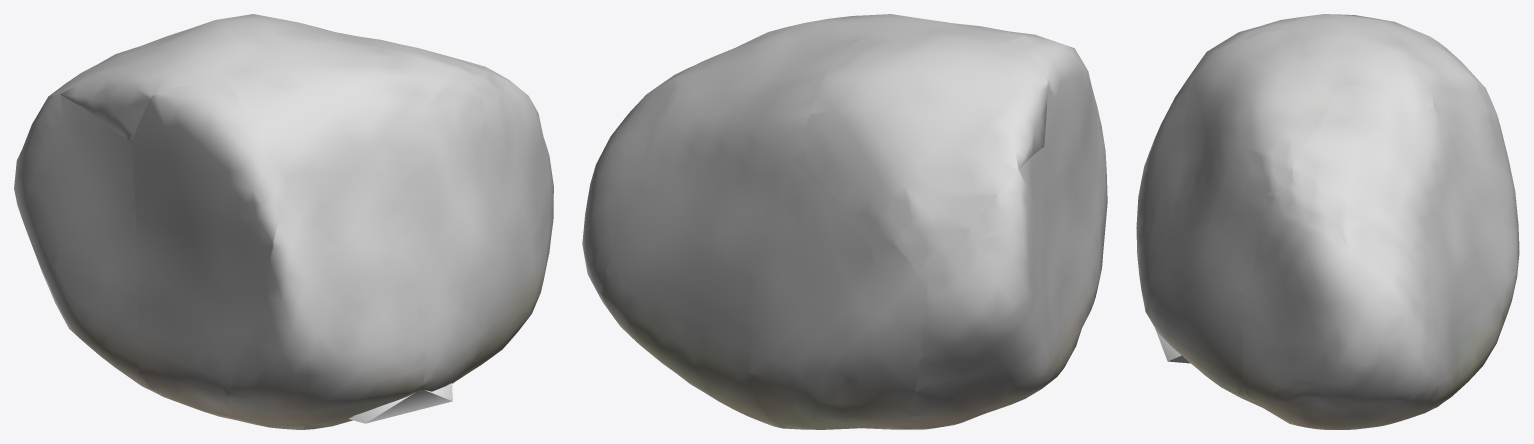
The model's file is gold_rock_v5.glb.
3 renders of one model, left to right at view 1: azimuth 30°, elevation 25°; view 2: azimuth 150°, elevation 25°; view 3: azimuth 270°, elevation 25°, orthographic. The views are drawn at different scales.
Parts seen in each view (by area): view 1: Chunk_09, Chunk_04, Chunk_05, Chunk_03, Chunk_06, Chunk_08, Chunk_00, Rubble_3, Chunk_07; view 2: Chunk_08, Chunk_02, Chunk_03, Chunk_07, Chunk_01, Chunk_04, Chunk_00, Chunk_09, Chunk_05; view 3: Chunk_00, Chunk_09, Chunk_07, Chunk_06, Chunk_08, Chunk_01, Chunk_02, Chunk_05, Chunk_04.
Boxes of the visible parts, <box> form: Chunk_09: <box>228,36,485,292</box>; Chunk_04: <box>131,83,287,415</box>; Chunk_05: <box>229,187,425,429</box>; Chunk_03: <box>14,94,157,393</box>; Chunk_06: <box>415,122,530,391</box>; Chunk_08: <box>50,14,314,141</box>; Chunk_00: <box>467,61,553,317</box>; Rubble_3: <box>349,383,452,423</box>; Chunk_07: <box>275,18,469,73</box>; Chunk_08: <box>804,32,1047,278</box>; Chunk_02: <box>750,172,927,429</box>; Chunk_03: <box>911,147,1069,428</box>; Chunk_07: <box>641,30,855,248</box>; Chunk_01: <box>603,187,782,428</box>; Chunk_04: <box>1009,36,1100,365</box>; Chunk_00: <box>582,50,729,315</box>; Chunk_09: <box>767,14,1043,41</box>; Chunk_05: <box>1097,106,1107,286</box>; Chunk_00: <box>1242,180,1439,429</box>; Chunk_09: <box>1167,30,1338,243</box>; Chunk_07: <box>1291,85,1468,279</box>; Chunk_06: <box>1146,212,1263,394</box>; Chunk_08: <box>1283,14,1498,143</box>; Chunk_01: <box>1417,227,1502,415</box>; Chunk_02: <box>1455,119,1519,329</box>; Chunk_05: <box>1136,89,1189,313</box>; Chunk_04: <box>1171,17,1301,103</box>.
Bounding box in the file's own units: 2.52 × 1.74 × 2.05.
